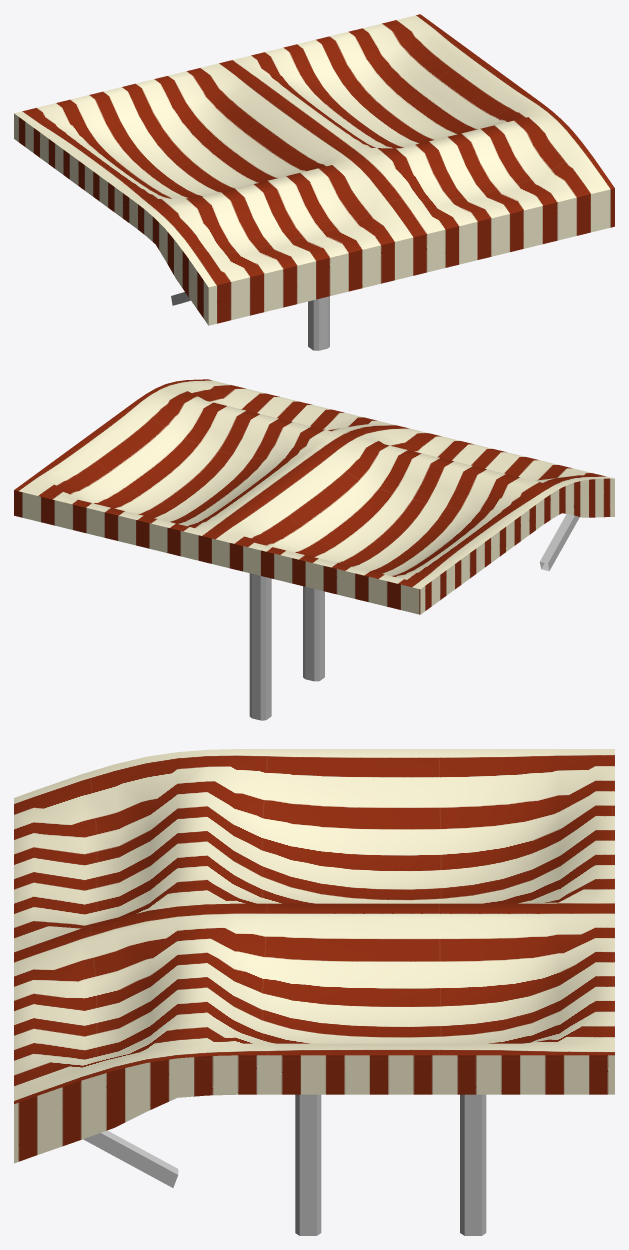
Rendered from SM_BoothTop4.fbx.
3 views of the same model, one above another, from view 1: azimuth 30°, elevation 25°; view 2: azimuth 150°, elevation 25°; view 3: azimuth 270°, elevation 25° (orthographic). The views are drawn at different scales.
Parts seen in each view (by area): view 1: Top4; view 2: Top4; view 3: Top4.
Boxes of the visible parts, x1,y1,x2,y2 form: Top4: (14, 14, 614, 350); Top4: (14, 379, 614, 720); Top4: (14, 749, 614, 1235).
Bounding box in the file's own units: 603 × 299 × 500.
